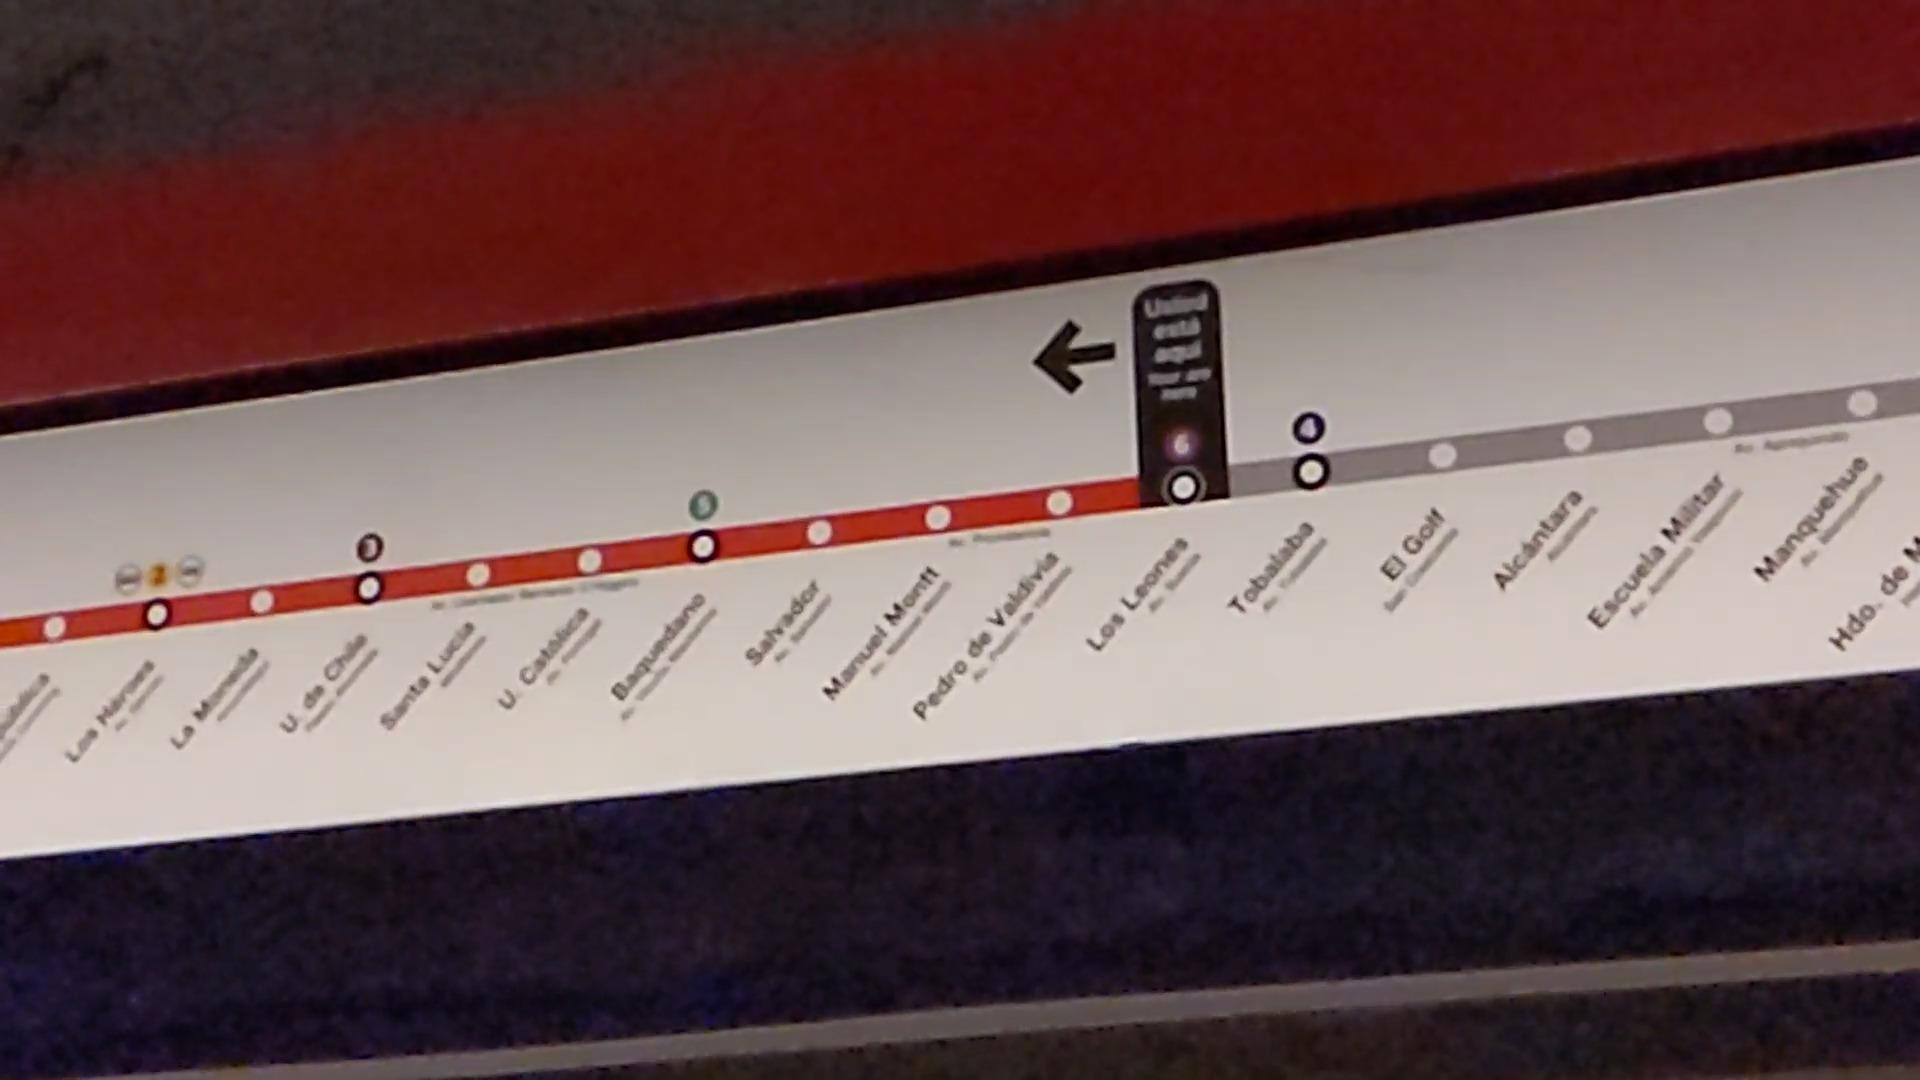left arrow: (1023, 316, 1124, 397)
